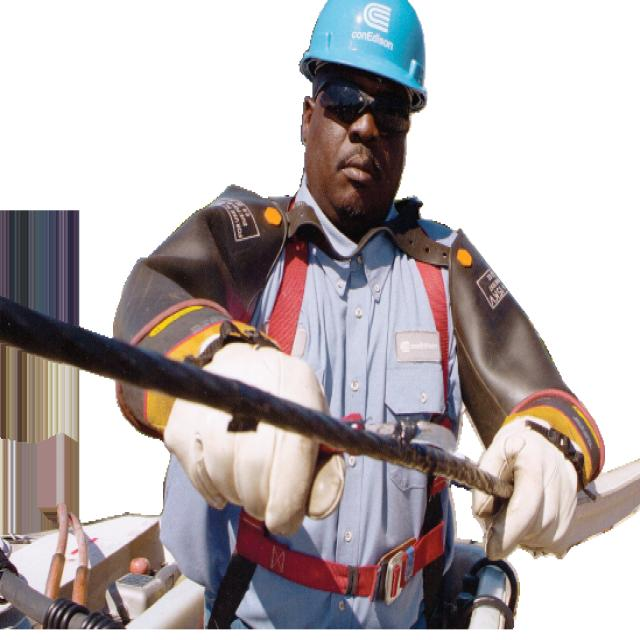gloves: (166, 322, 346, 536), (472, 387, 604, 561)
